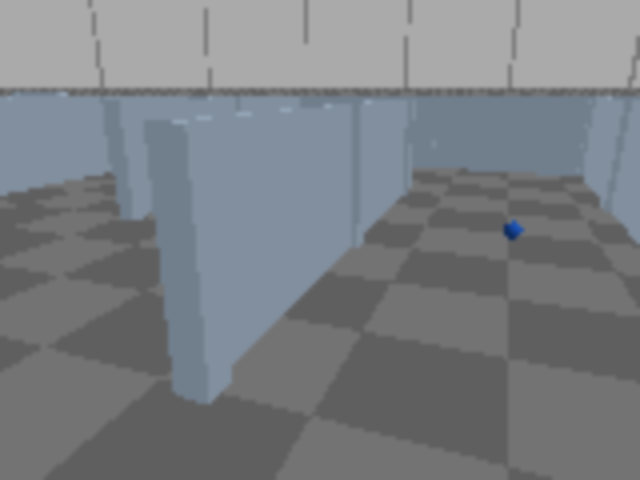puck: (501, 220, 526, 242)
